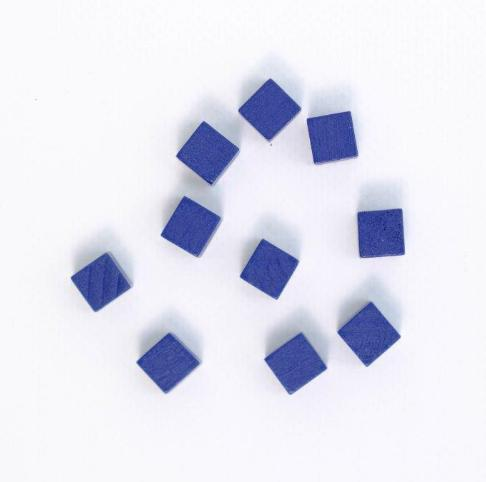bluecube: (175, 120, 241, 187), (338, 302, 403, 369), (237, 77, 301, 142), (136, 331, 200, 394), (160, 196, 223, 259), (264, 332, 327, 395), (239, 237, 301, 300), (69, 252, 132, 314), (305, 111, 359, 164), (357, 208, 405, 258)
